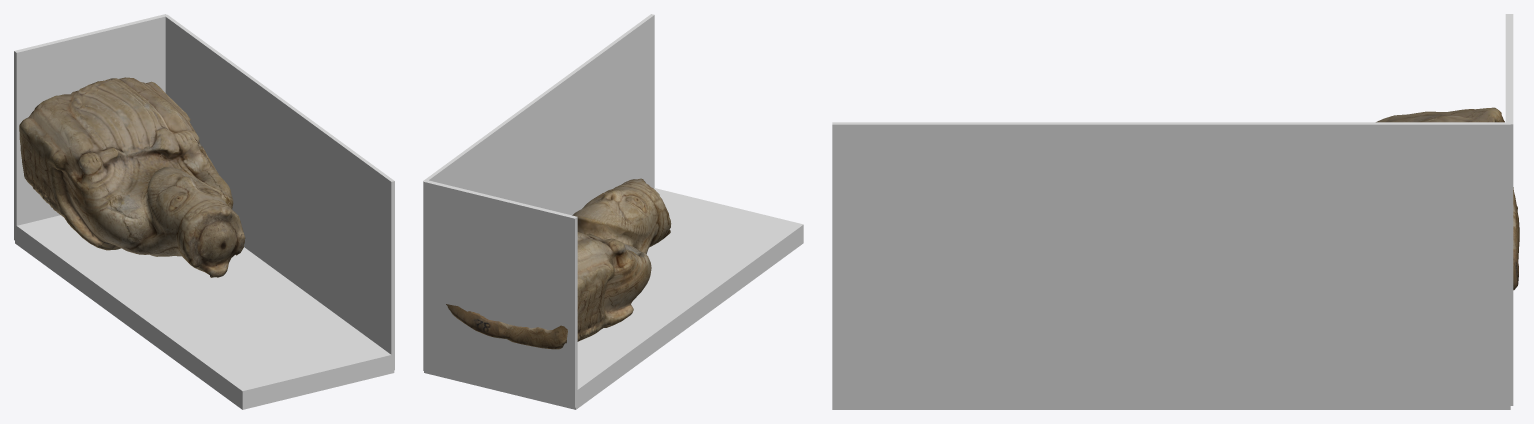
3 views of the same model, side by side, from view 1: azimuth 30°, elevation 25°; view 2: azimuth 150°, elevation 25°; view 3: azimuth 270°, elevation 25° (orthographic). The views are drawn at different scales.
Visible parts, largest first — view 1: Cube.001, Cube.002, king_2_lewisKing82, Cube.003; view 2: Cube.003, Cube.001, Cube.002, king_2_lewisKing82; view 3: Cube.001, Cube.002, Cube.003, king_2_lewisKing82.
Boxes of the visible parts, x1,y1,x2,y2 form: Cube.001: (165, 14, 394, 370); Cube.002: (15, 215, 394, 409); king_2_lewisKing82: (19, 77, 245, 277); Cube.003: (14, 14, 167, 240); Cube.003: (423, 180, 577, 407); Cube.001: (423, 14, 654, 215); Cube.002: (424, 188, 803, 409); king_2_lewisKing82: (446, 178, 671, 349); Cube.001: (832, 122, 1510, 406); Cube.002: (832, 406, 1510, 409); Cube.003: (1505, 14, 1513, 405); king_2_lewisKing82: (1376, 107, 1519, 290).
Bounding box in the file's own units: 1 × 1.21 × 2.64.
4 materials, 1 textured.
